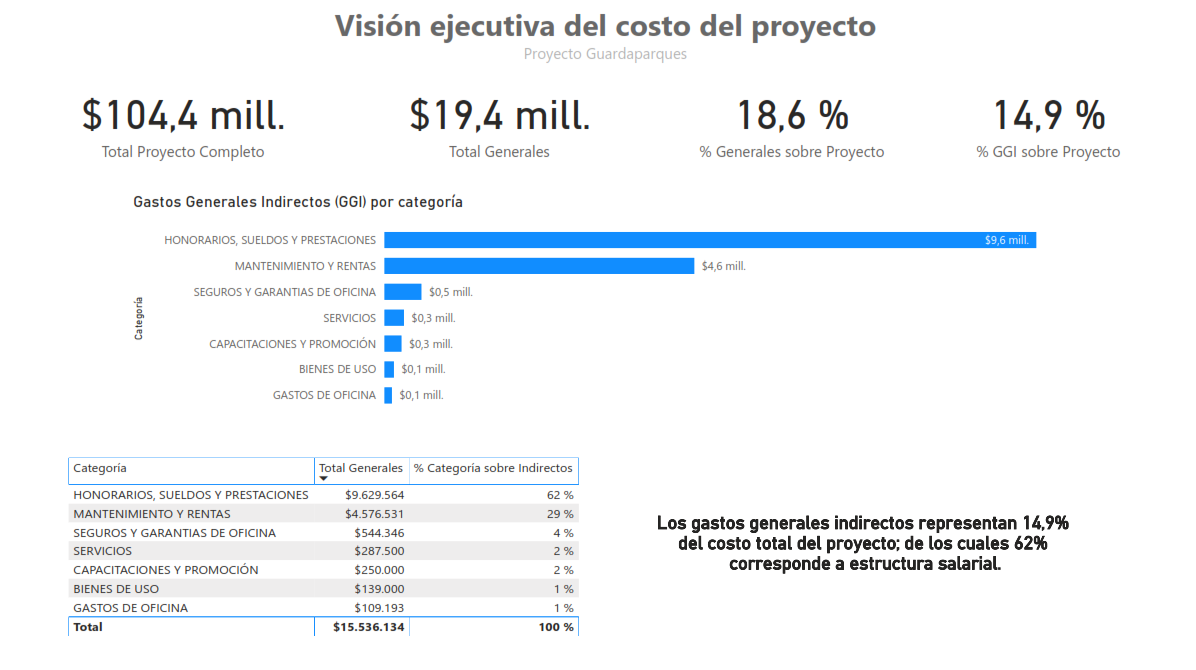

This screenshot's page, from the dashboard's own definition file:
{"tool":"powerbi","page":{"name":"Visión Ejecutiva","canvas":[1280,720],"ordinal":0},"visuals":[{"type":"card","fields":{"Values":["Medidas.% Generales sobre Proyecto"]},"box":[723,79.4,249.3,101.5],"z":0},{"type":"card","fields":{"Values":["Medidas.Total Proyecto Completo"]},"box":[47.8,79.4,300,101.5],"z":1000},{"type":"card","fields":{"Values":["Medidas.Total Generales"]},"box":[407.1,79.4,256.7,101.5],"z":2000},{"type":"barChart","title":"Gastos Generales Indirectos (GGI) por categoría","fields":{"Category":["Gastos_Generales.Categoría"],"Y":["Medidas.Total Generales"]},"box":[140,205.7,1025.7,242.9],"z":3000},{"type":"tableEx","fields":{"Values":["Gastos_Generales.Categoría","Medidas.Total Generales","Medidas.% Categoría sobre Indirectos"]},"box":[70,484.7,594.3,218.6],"z":4000},{"type":"card","fields":{"Values":["Medidas.% GGI sobre Proyecto"]},"box":[1031.4,79.4,179.1,101.5],"z":5000},{"type":"card","fields":{"Values":["Medidas.Texto Ejecutivo Dueño"]},"box":[687.1,457.6,477.1,245.7],"z":6000},{"type":"textbox","box":[324.3,0,648.6,80],"z":7000}]}

Visuals, with their boxes in screenshot pixels (x1, y1, x2, y2), scaled from the page's 1280x720 canvas onto the 1196x670 screenshot:
card - Medidas.% Generales sobre Proyecto: (676, 74, 908, 168)
card - Medidas.Total Proyecto Completo: (45, 74, 325, 168)
card - Medidas.Total Generales: (380, 74, 620, 168)
"Gastos Generales Indirectos (GGI) por categoría" barChart: (131, 191, 1089, 417)
tableEx - Gastos_Generales.Categoría x Medidas.Total Generales: (65, 451, 621, 654)
card - Medidas.% GGI sobre Proyecto: (964, 74, 1131, 168)
card - Medidas.Texto Ejecutivo Dueño: (642, 426, 1088, 654)
textbox: (303, 0, 909, 74)
